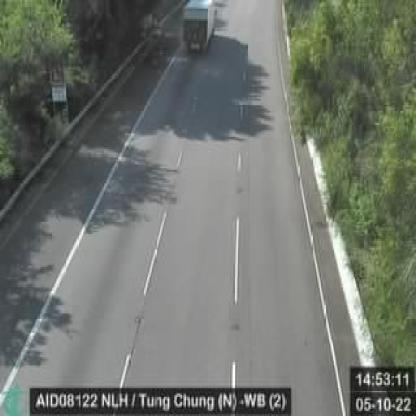Truck: (183, 0, 216, 52)
